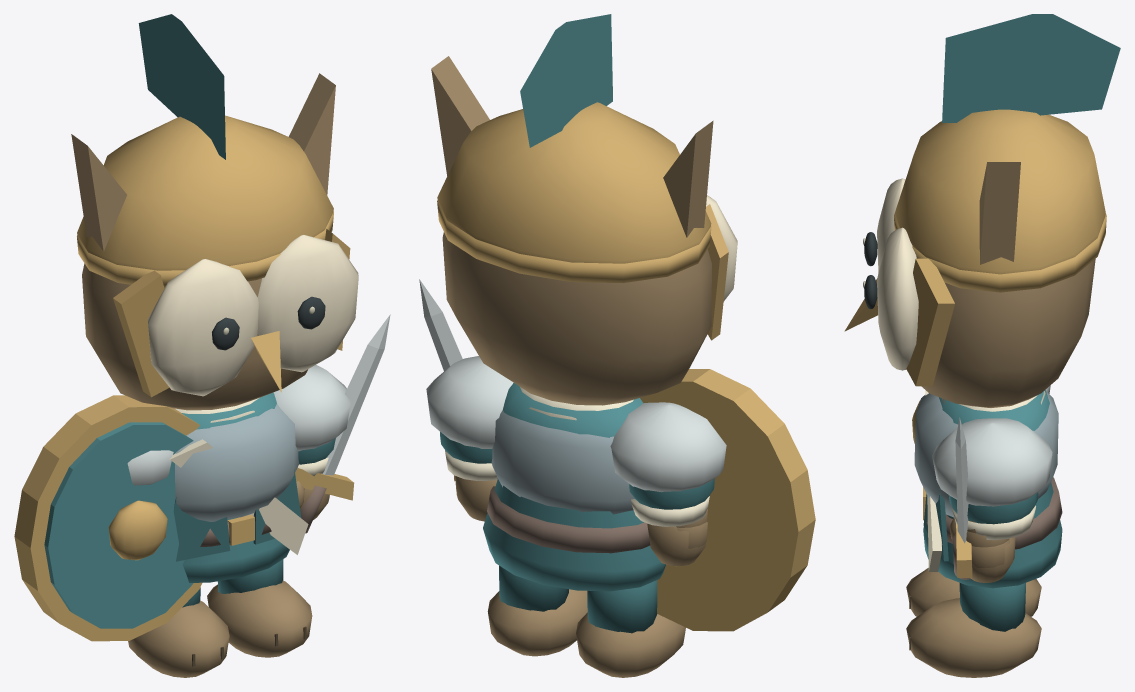
File: guard.glb
3 renders of one model, left to right at view 1: azimuth 30°, elevation 25°; view 2: azimuth 150°, elevation 25°; view 3: azimuth 270°, elevation 25°, orthographic. The views are drawn at different scales.
Visible parts, largest first — view 1: Regional helmet, Regional shield face, Shield gold rim, Owl face disk, Rounded breastplate, Owl face disk.001, Animal cheek head, Greek crest, Soft animal paw.001, Soft animal paw, Big shoulder armour.001, Short folded tunic (+16 smaller); view 2: Regional helmet, Animal cheek head, Shield gold rim, Short folded tunic, Rounded breastplate, Big shoulder armour, Greek crest, Big shoulder armour.001, Helmet brow band, Soft animal paw, Soft animal paw.001, Broad leather belt (+14 smaller); view 3: Regional helmet, Animal cheek head, Greek crest, Big shoulder armour.001, Soft animal paw.001, Short folded tunic, Owl face disk.001, Corinthian cheek.001, Rounded breastplate, Owl feather tuft.001, Helmet brow band, Stubby trouser.001 (+12 smaller).
Boxes of the visible parts, x1=… form: Regional helmet: x1=77, y1=115, x2=333, y2=270; Regional shield face: x1=44, y1=422, x2=193, y2=628; Shield gold rim: x1=14, y1=395, x2=202, y2=641; Owl face disk: x1=147, y1=259, x2=258, y2=396; Rounded breastplate: x1=175, y1=404, x2=299, y2=521; Owl face disk.001: x1=257, y1=234, x2=358, y2=372; Animal cheek head: x1=82, y1=263, x2=307, y2=410; Greek crest: x1=138, y1=14, x2=225, y2=159; Soft animal paw.001: x1=207, y1=580, x2=312, y2=657; Soft animal paw: x1=128, y1=600, x2=229, y2=677; Big shoulder armour.001: x1=273, y1=365, x2=350, y2=451; Short folded tunic: x1=182, y1=392, x2=289, y2=582; Regional helmet: x1=437, y1=102, x2=711, y2=263; Animal cheek head: x1=442, y1=232, x2=711, y2=405; Shield gold rim: x1=640, y1=369, x2=815, y2=631; Short folded tunic: x1=483, y1=383, x2=665, y2=591; Rounded breastplate: x1=491, y1=410, x2=634, y2=514; Big shoulder armour: x1=610, y1=402, x2=726, y2=492; Greek crest: x1=520, y1=14, x2=612, y2=147; Big shoulder armour.001: x1=426, y1=356, x2=513, y2=448; Helmet brow band: x1=437, y1=200, x2=711, y2=283; Soft animal paw: x1=576, y1=612, x2=685, y2=677; Soft animal paw.001: x1=487, y1=589, x2=587, y2=656; Broad leather belt: x1=487, y1=486, x2=650, y2=553; Regional helmet: x1=895, y1=109, x2=1105, y2=274; Animal cheek head: x1=921, y1=259, x2=1095, y2=407; Greek crest: x1=942, y1=14, x2=1120, y2=122; Big shoulder armour.001: x1=932, y1=418, x2=1052, y2=506; Soft animal paw.001: x1=906, y1=598, x2=1041, y2=677; Short folded tunic: x1=923, y1=390, x2=1062, y2=588; Owl face disk.001: x1=877, y1=227, x2=918, y2=370; Corinthian cheek.001: x1=906, y1=258, x2=954, y2=386; Rounded breastplate: x1=914, y1=391, x2=1058, y2=517; Owl feather tuft.001: x1=979, y1=162, x2=1020, y2=264; Helmet brow band: x1=894, y1=213, x2=1106, y2=292; Stubby trouser.001: x1=959, y1=583, x2=1025, y2=631.
Size of the model in its own units: 1.15 by 1.86 by 0.735.
